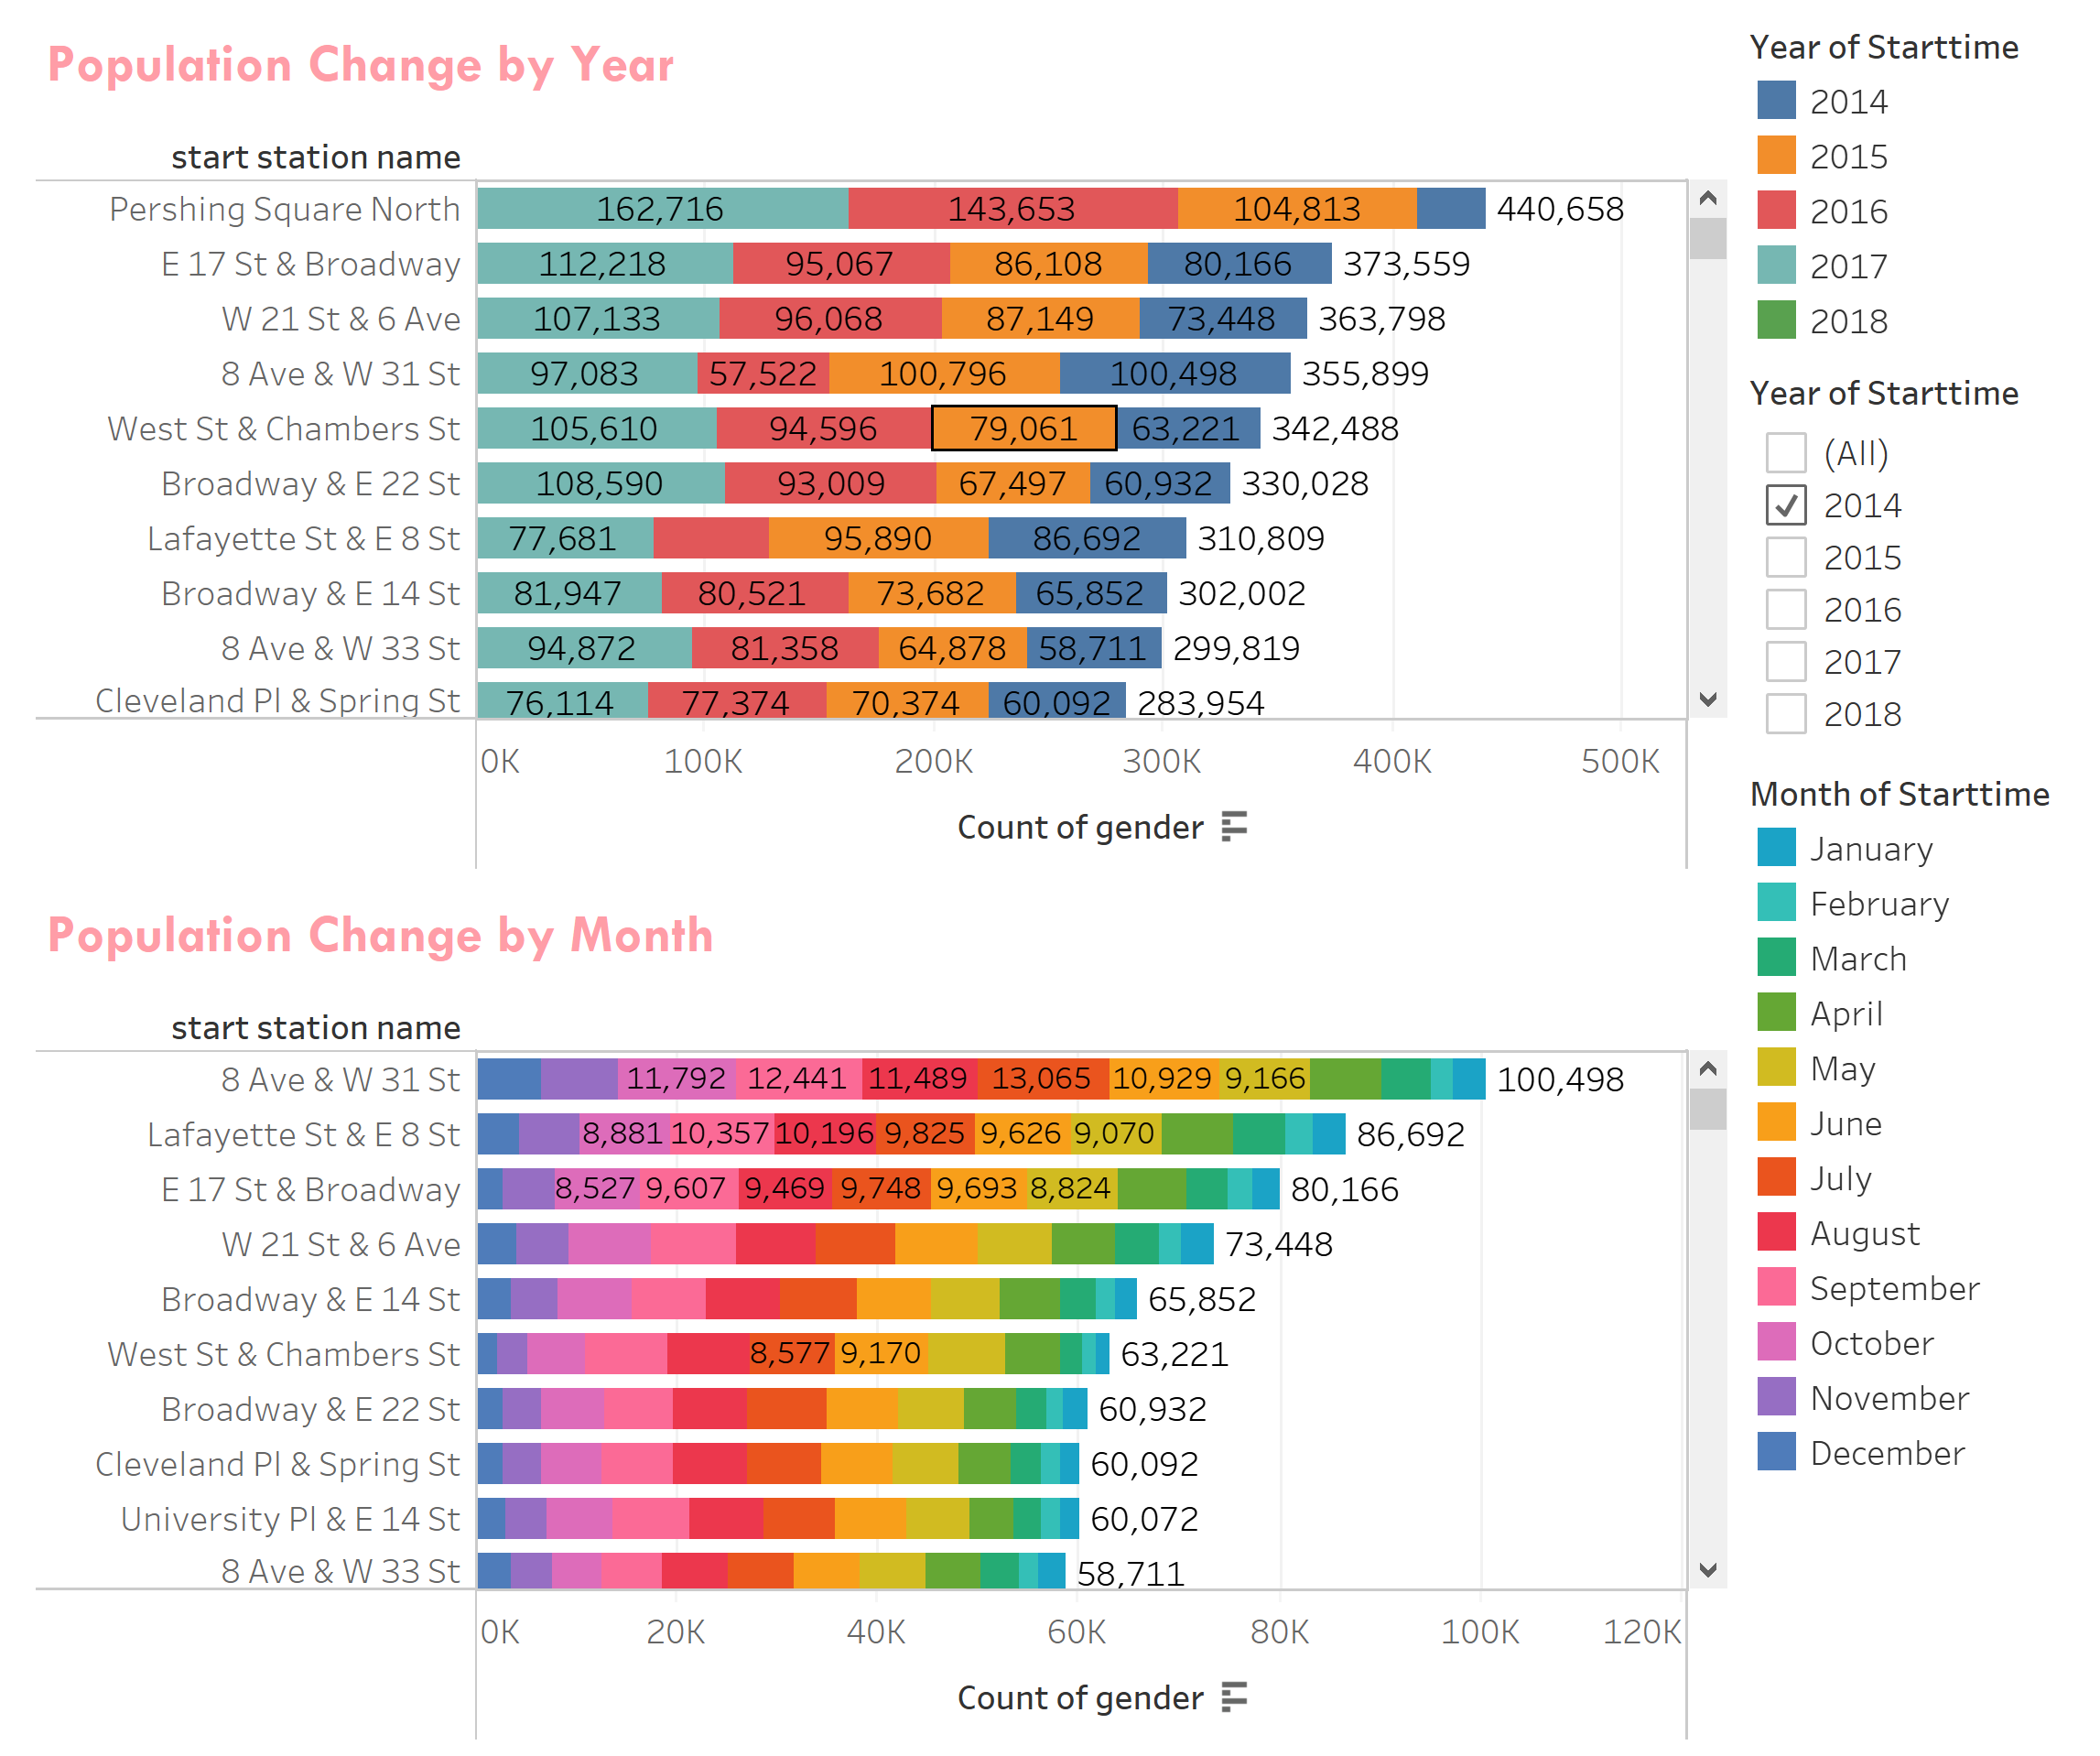

The page's visual inventory and layout, read from the dashboard file:
{"tool":"tableau","page":{"name":"Dashboard 4","canvas":[1000,800],"ordinal":3},"visuals":[{"type":"worksheet","title":"Sheet 6","mark":"Automatic","rows":["start station id"],"cols":["Calculation_1600748252908560384","start station name"],"box":[8,8,412,392]},{"type":"worksheet","title":"Sheet 7","mark":"Automatic","rows":["end station id"],"cols":["Calculation_1600748252908560384","end station name"],"box":[420,8,412,392]},{"type":"filter","title":"Sheet 6","param":"[federated.0o6bcyj08k7vi61bhyd3708n9wq9].[yr:starttime:ok]","box":[832,8,160,136]},{"type":"legend","title":"Sheet 6","param":"[federated.0o6bcyj08k7vi61bhyd3708n9wq9].[cnt:start station id:qk]","box":[832,144,160,65]},{"type":"currpage","title":"Sheet 6","box":[832,209,160,110]},{"type":"filter","title":"Sheet 6 (1)","param":"[federated.0o6bcyj08k7vi61bhyd3708n9wq9].[yr:starttime:ok]","box":[832,319,160,136]},{"type":"worksheet","title":"Sheet 6 (1)","mark":"Automatic","rows":["start station id"],"cols":["Calculation_1600748252908560384","start station name"],"box":[8,400,412,392]},{"type":"worksheet","title":"Sheet 7 (1)","mark":"Automatic","rows":["end station id"],"cols":["Calculation_1600748252908560384","end station name"],"box":[420,400,412,392]},{"type":"filter","title":"Sheet 7","param":"[federated.0o6bcyj08k7vi61bhyd3708n9wq9].[yr:starttime:ok]","box":[832,455,160,136]},{"type":"legend","title":"Sheet 7","param":"[federated.0o6bcyj08k7vi61bhyd3708n9wq9].[cnt:end station id:qk]","box":[832,591,160,65]},{"type":"filter","title":"Sheet 7 (1)","param":"[federated.0o6bcyj08k7vi61bhyd3708n9wq9].[yr:starttime:ok]","box":[832,656,160,136]}]}

Visuals, with their boxes on the page's 1000x800 design canvas (x1, y1, x2, y2). These are canvas units, not pixel positions in the 2100x1756 screenshot, which may show the page scaled, cropped or inside an application window:
"Sheet 6" worksheet: 8, 8, 420, 400
"Sheet 7" worksheet: 420, 8, 832, 400
"Sheet 6" filter: 832, 8, 992, 144
"Sheet 6" legend: 832, 144, 992, 209
"Sheet 6" currpage: 832, 209, 992, 319
"Sheet 6 (1)" filter: 832, 319, 992, 455
"Sheet 6 (1)" worksheet: 8, 400, 420, 792
"Sheet 7 (1)" worksheet: 420, 400, 832, 792
"Sheet 7" filter: 832, 455, 992, 591
"Sheet 7" legend: 832, 591, 992, 656
"Sheet 7 (1)" filter: 832, 656, 992, 792
